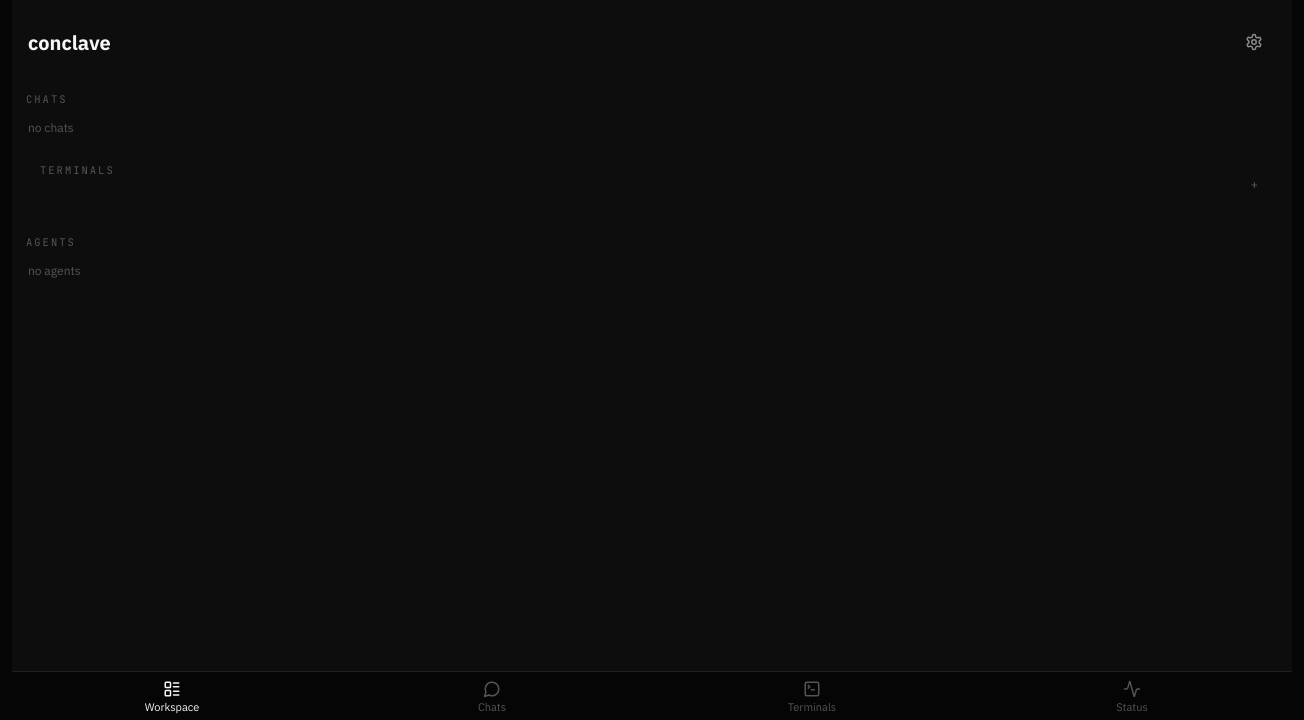
it: MobileShell › switches screens via the tab bar
Click the button with test id "mobile-tab-status". click: (1132, 696)
box: top-left (972, 672), bottom-right (1292, 719)
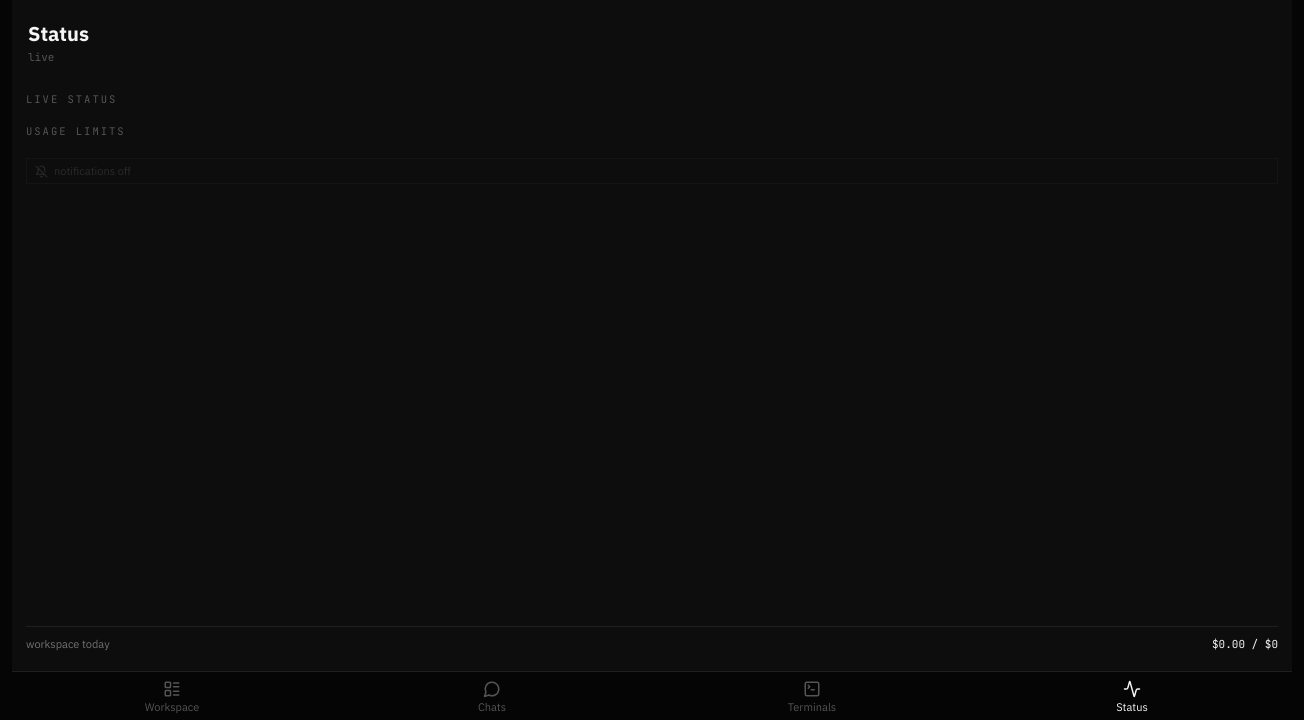
Expected: the element with test id "status-screen" is shown
Click the button with test id "mobile-tab-terminals". click: (812, 696)
box: top-left (652, 672), bottom-right (972, 719)
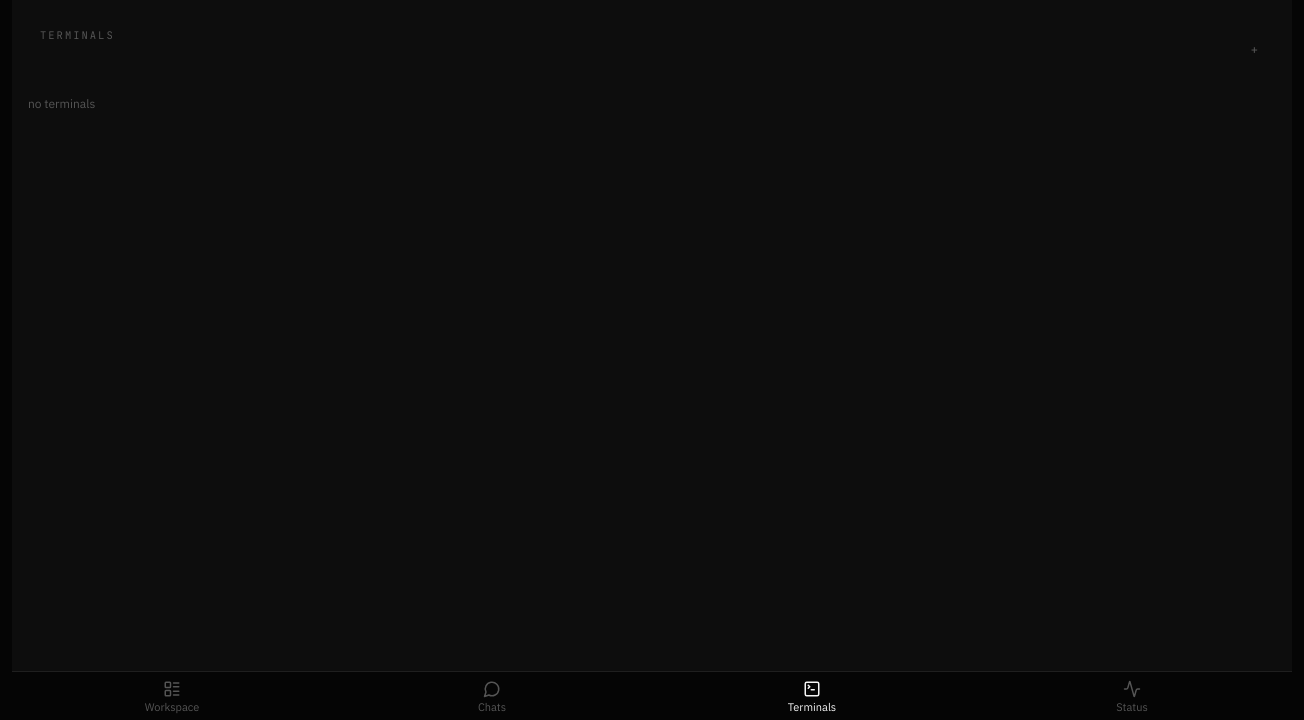
Expected: the element with test id "terminals-screen" is shown
Click the button with test id "mobile-tab-chats". click: (492, 696)
box: top-left (332, 672), bottom-right (652, 719)
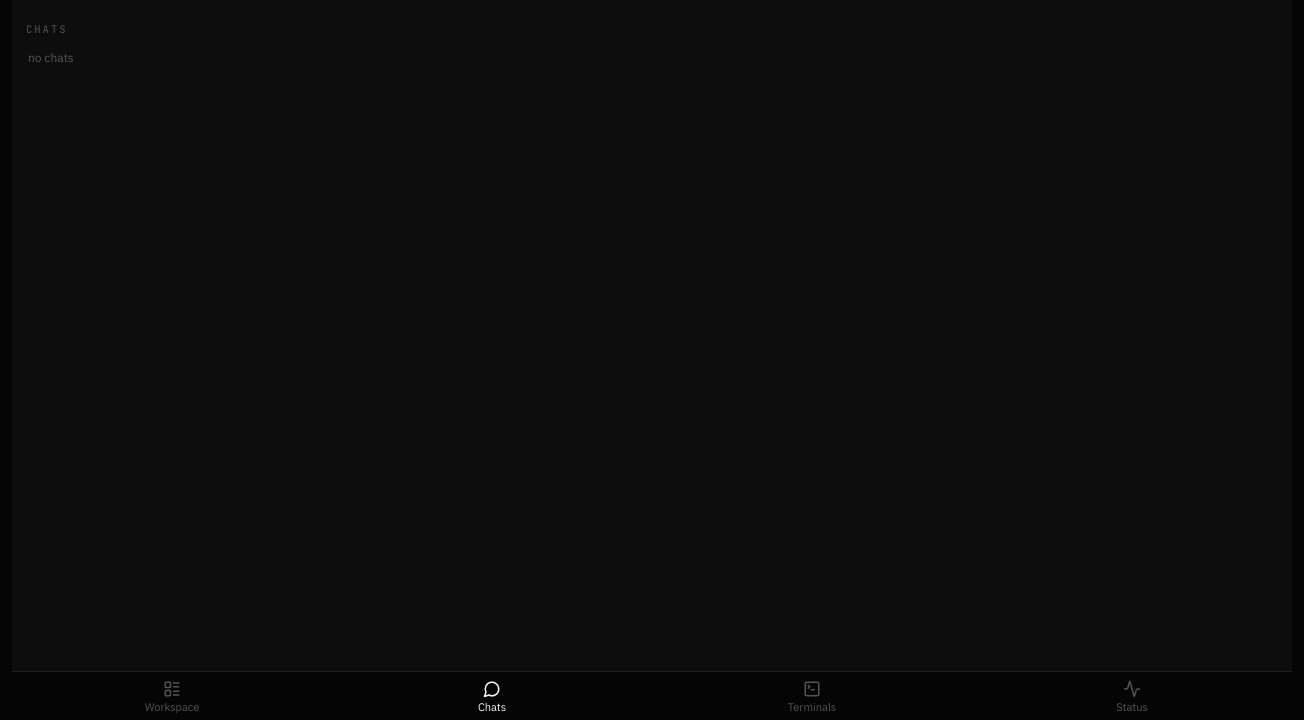
Expected: the element with test id "chats-screen" is shown
